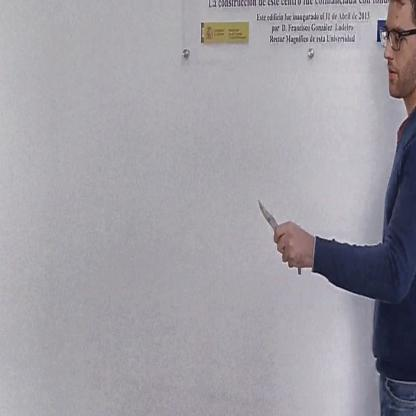knife: (254, 190, 303, 276)
